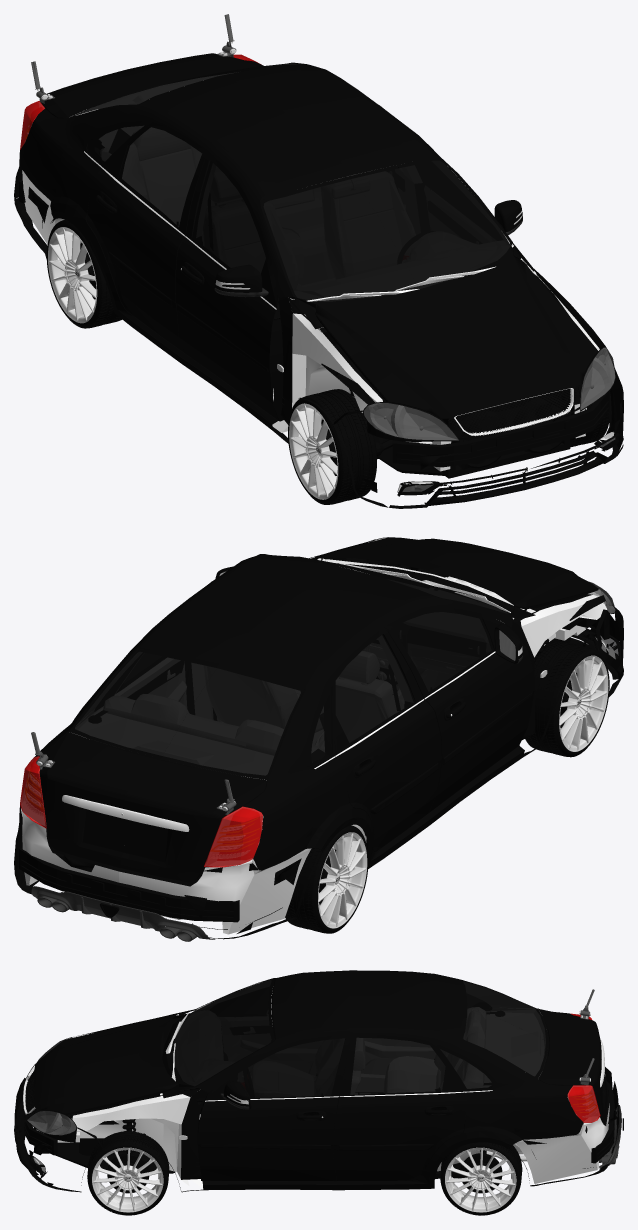
The model's file is dune.glb.
3 renders of one model, top to bottom at view 1: azimuth 30°, elevation 25°; view 2: azimuth 150°, elevation 25°; view 3: azimuth 270°, elevation 25°, orthographic. The views are drawn at different scales.
Visible parts, largest first — view 1: chassis, kapot, chassis.003, door_rf_ok, door_rr_ok, unnamed, bumper_r, boot, unnamed.001, st.002, bumper_f, chassis.001 (+2 smaller); view 2: chassis, boot, chassis.001, door_rf_ok, door_rr_ok, kapot, bumper_r, unnamed, unnamed.001, st, chassis.003, Fara (+1 smaller); view 3: chassis, door_lf_ok, door_lr_ok, kapot, chassis.003, chassis.001, unnamed.003, boot, unnamed.002, bumper_r, st.002, st (+1 smaller).
Boxes of the visible parts, x1,y1,x2,y2 form: chassis: (19, 60, 615, 478); kapot: (316, 256, 597, 418); chassis.003: (263, 160, 510, 301); door_rf_ok: (175, 152, 278, 420); door_rr_ok: (86, 122, 208, 352); unnamed: (288, 389, 376, 504); bumper_r: (14, 150, 623, 508); boot: (31, 14, 259, 118); unnamed.001: (46, 219, 121, 328); st.002: (363, 346, 618, 495); bumper_f: (424, 451, 603, 506); chassis.001: (70, 63, 301, 165); chassis: (19, 537, 615, 934); boot: (31, 732, 266, 882); chassis.001: (69, 649, 332, 779); door_rf_ok: (384, 607, 534, 812); door_rr_ok: (333, 627, 441, 851); kapot: (316, 537, 597, 613); bumper_r: (14, 539, 623, 941); unnamed: (525, 641, 609, 757); unnamed.001: (285, 825, 368, 933); st: (20, 756, 263, 867); chassis.003: (270, 555, 508, 614); Fara: (28, 759, 260, 860); chassis: (22, 970, 614, 1190); door_lf_ok: (198, 1034, 351, 1181); door_lr_ok: (333, 1033, 465, 1180); kapot: (34, 1013, 178, 1113); chassis.003: (172, 980, 271, 1086); chassis.001: (436, 980, 548, 1091); unnamed.003: (87, 1131, 169, 1215); boot: (539, 989, 607, 1122); unnamed.002: (440, 1142, 522, 1215); bumper_r: (14, 1009, 623, 1192); st.002: (26, 1039, 76, 1172); st: (567, 1013, 600, 1122).
Bounding box in the file's own units: 1.99 × 1.48 × 4.74.
